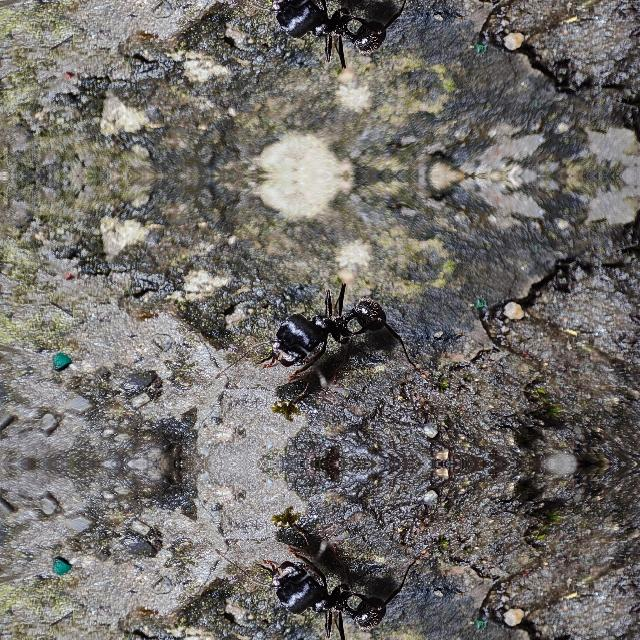Messor: (246, 268, 416, 388), (246, 538, 416, 640), (246, 0, 416, 81)
